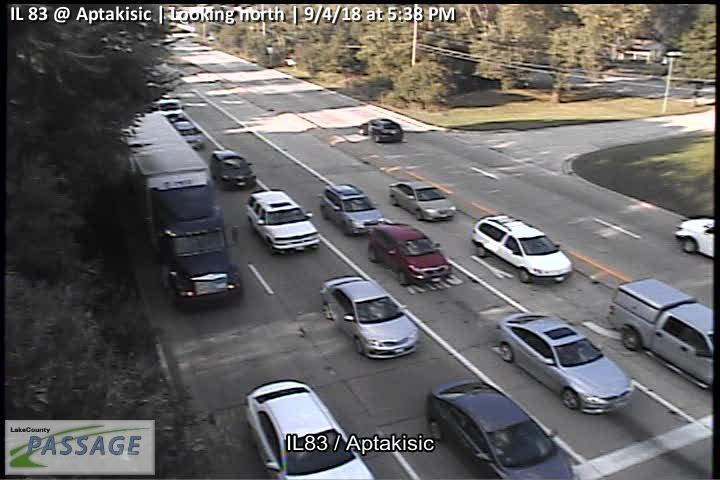SUV: (610, 278, 713, 387), (471, 215, 572, 283), (322, 185, 382, 238), (209, 150, 257, 192), (157, 99, 186, 120)
Sedan: (425, 376, 574, 480), (497, 313, 636, 416), (243, 377, 374, 480), (319, 275, 420, 360), (367, 220, 452, 286), (245, 190, 321, 256), (388, 180, 457, 222), (359, 119, 403, 144), (172, 120, 203, 152)
Truck: (114, 111, 241, 313)
